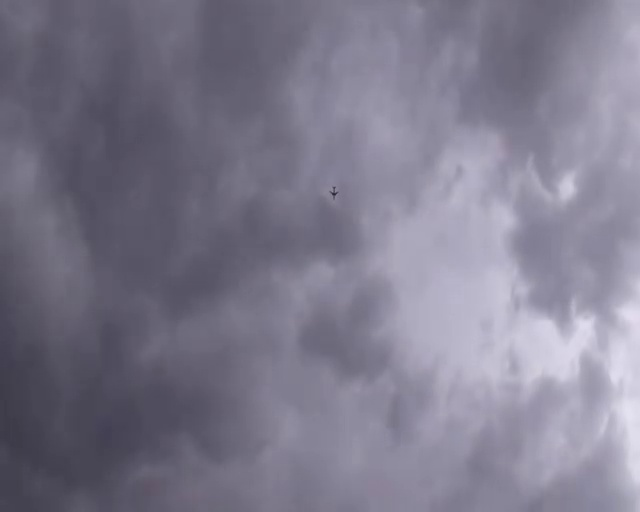AIRPLANE: (329, 186, 338, 198)
